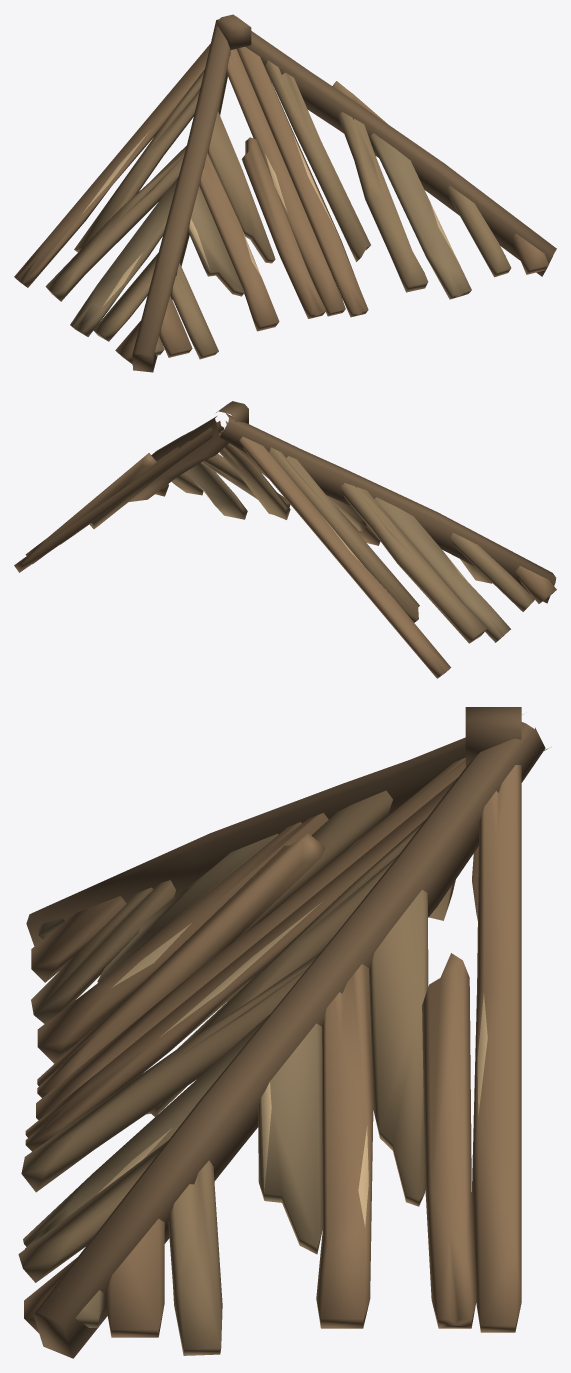
File: rpgpp_av_roof_02_6x3x3_end_02.gltf
3 views of the same model, one above another, from view 1: azimuth 30°, elevation 25°; view 2: azimuth 150°, elevation 25°; view 3: azimuth 270°, elevation 25° (orthographic). The views are drawn at different scales.
Parts seen in each view (by area): view 1: rpgpp_av_roof_02_6x3x3_end_02; view 2: rpgpp_av_roof_02_6x3x3_end_02; view 3: rpgpp_av_roof_02_6x3x3_end_02.
Part boxes in pixels (box(x1,y1,x2,y2)): rpgpp_av_roof_02_6x3x3_end_02: box(14, 14, 556, 372); rpgpp_av_roof_02_6x3x3_end_02: box(14, 401, 556, 678); rpgpp_av_roof_02_6x3x3_end_02: box(18, 707, 548, 1358).
Size of the model in its own units: 0.0839 by 0.0411 by 0.0449.
Materials: 1 (1 with a texture image).
